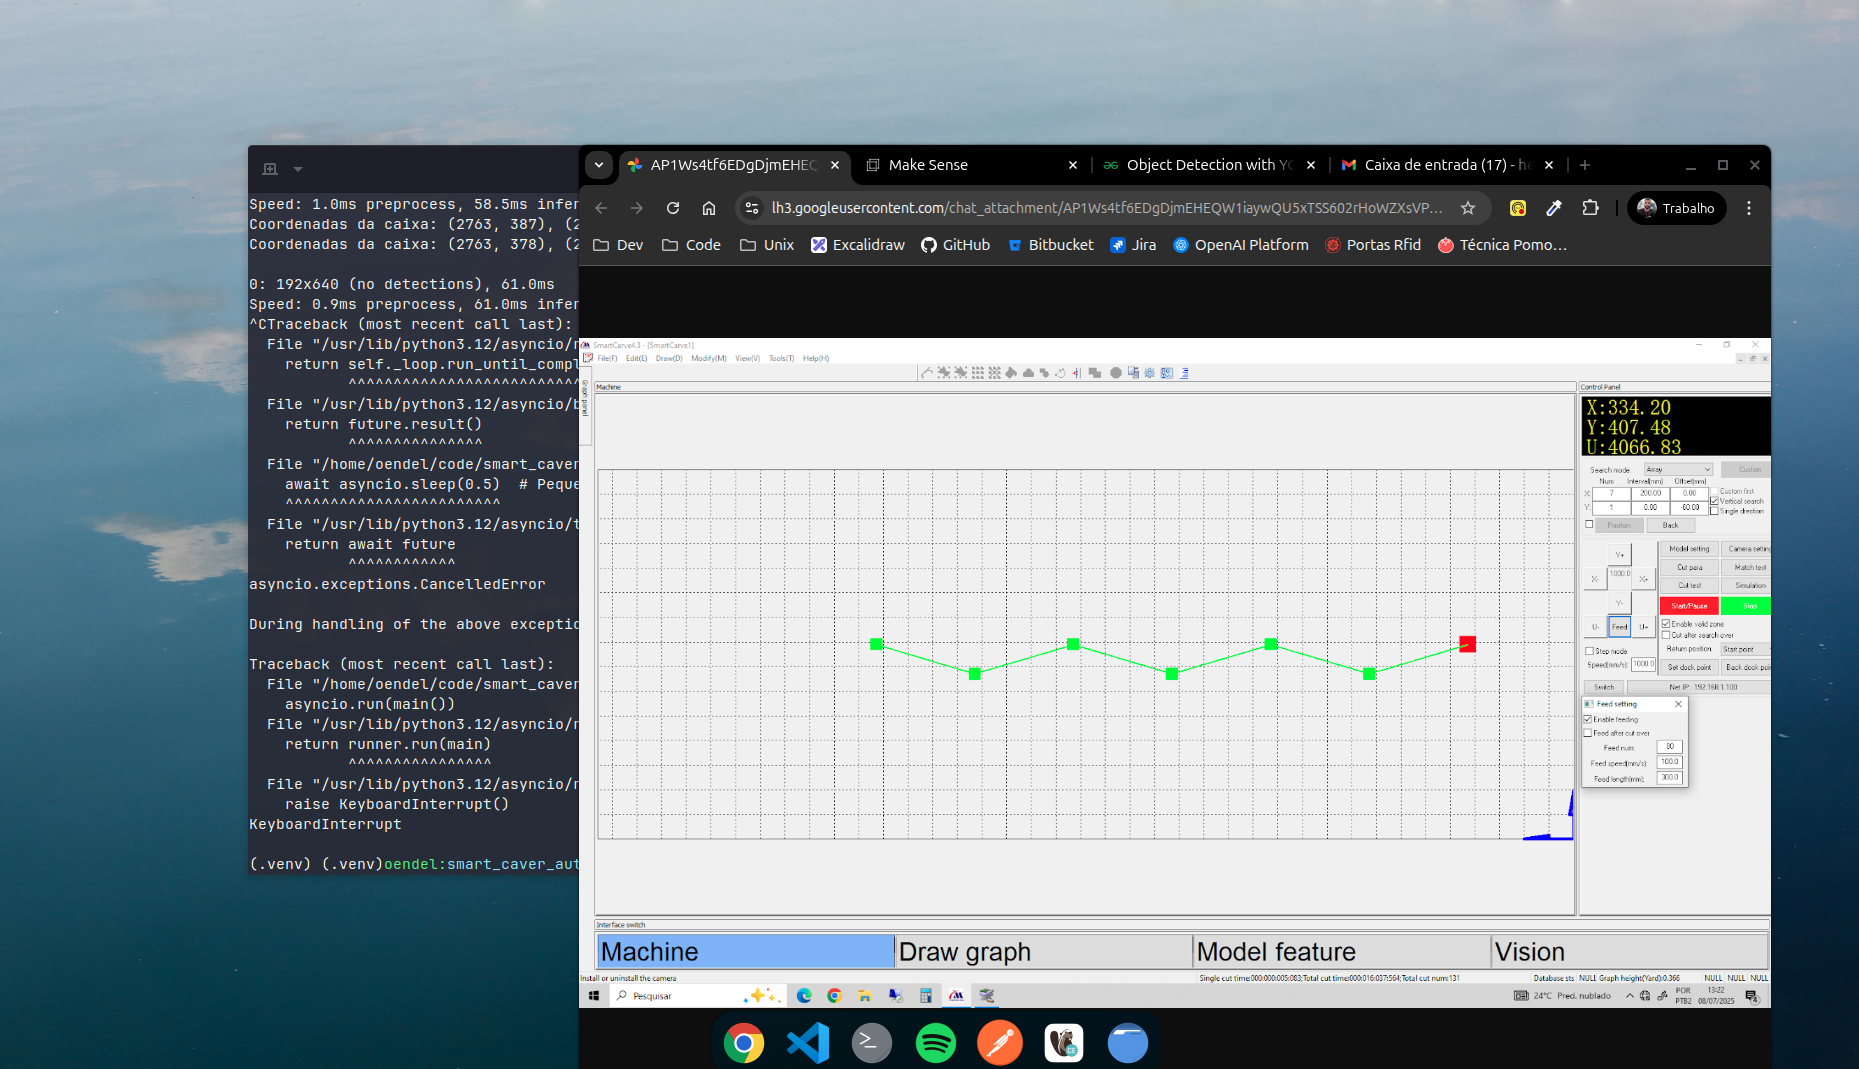start: (1661, 595, 1719, 616)
timer: (1670, 476, 1708, 516)
